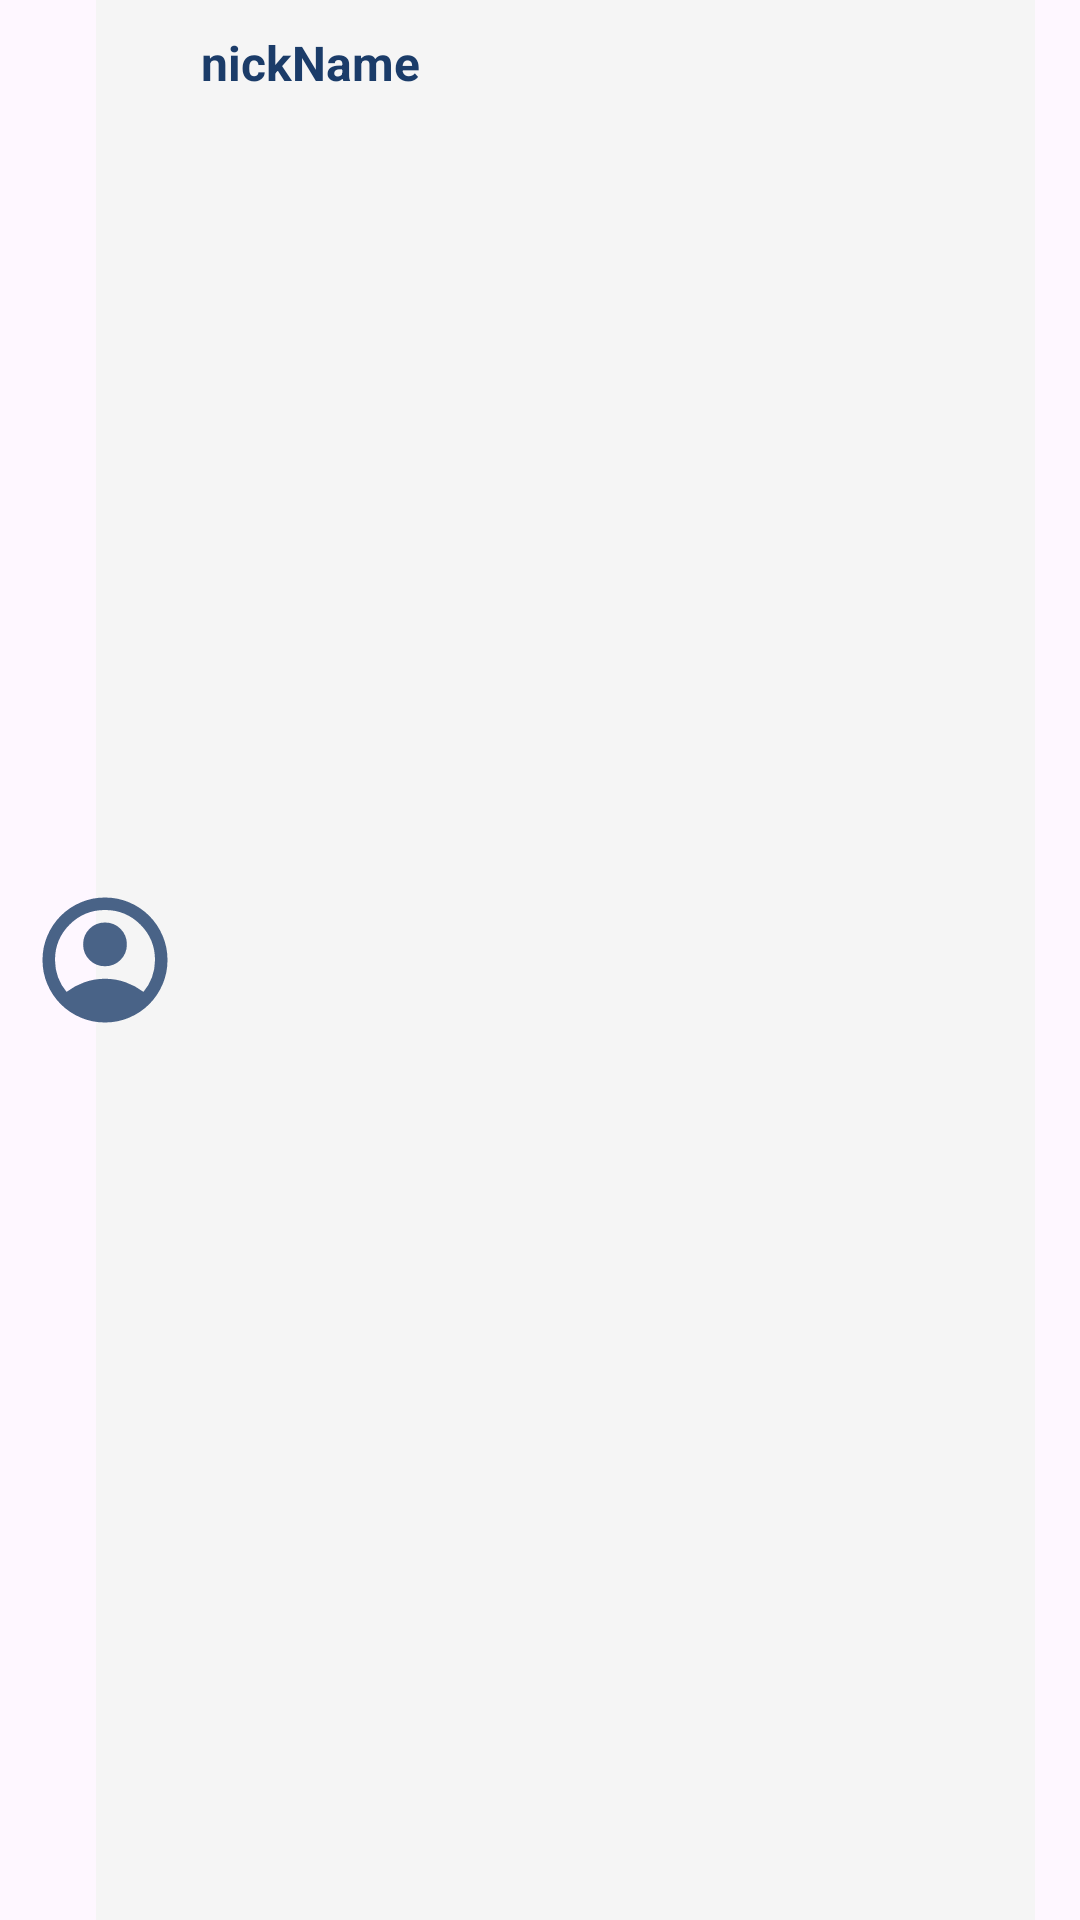

Point at icon controls on the screen. Image size 1080x1920, points as (x,y).
account circle: (99,960)
